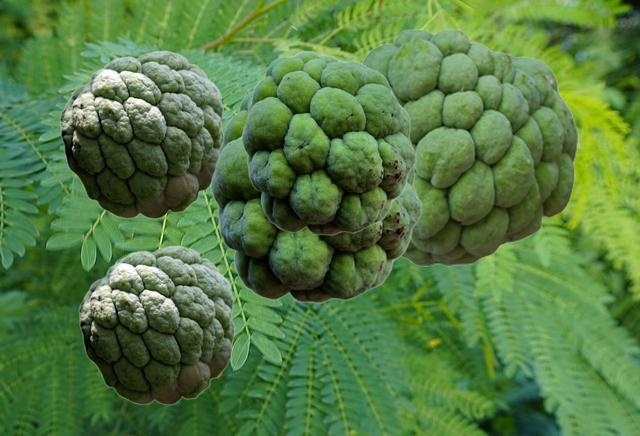atis: (360, 28, 577, 265), (210, 87, 421, 303), (241, 50, 415, 235), (59, 50, 224, 218), (78, 245, 234, 404)
